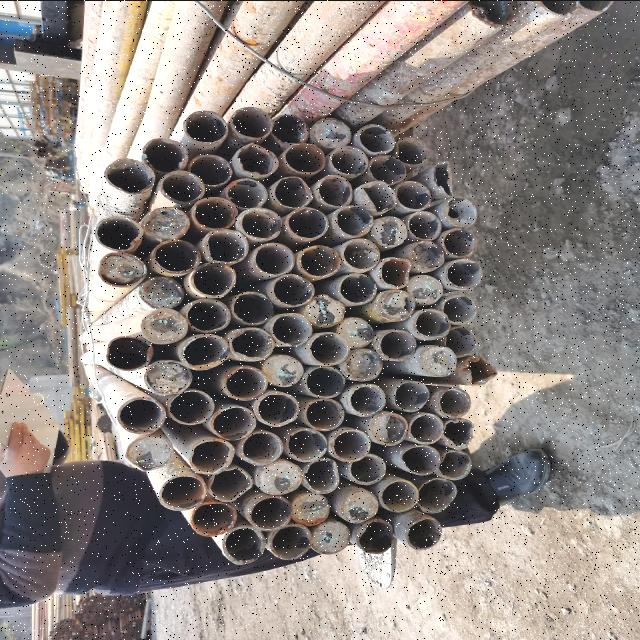pipe: (154, 472, 208, 510), (116, 394, 166, 434), (102, 156, 154, 194), (96, 252, 148, 288), (221, 524, 265, 566), (124, 433, 172, 471), (141, 358, 191, 394), (208, 402, 254, 440), (94, 214, 142, 250), (104, 335, 152, 371), (140, 206, 188, 242), (140, 137, 188, 173), (182, 108, 228, 144), (202, 225, 248, 261), (181, 332, 227, 368), (221, 365, 267, 401), (254, 461, 304, 494), (183, 298, 231, 332), (245, 495, 291, 530), (167, 390, 214, 424), (416, 476, 458, 514), (142, 308, 186, 344), (188, 438, 232, 474), (192, 500, 236, 536), (208, 464, 252, 500), (239, 430, 283, 466), (158, 169, 204, 203), (192, 194, 238, 228), (191, 262, 237, 296), (297, 243, 343, 277), (254, 391, 300, 425), (334, 486, 378, 521), (269, 524, 311, 560), (234, 142, 278, 176), (284, 426, 328, 460), (152, 242, 198, 274), (231, 326, 273, 360), (230, 105, 272, 139), (286, 204, 328, 238), (270, 311, 312, 345), (238, 206, 282, 238), (272, 272, 312, 307), (330, 426, 370, 461), (232, 291, 274, 324), (261, 353, 303, 386), (140, 276, 183, 308), (304, 456, 340, 494), (309, 331, 349, 365), (290, 492, 330, 526), (354, 519, 394, 553), (346, 382, 386, 416), (190, 152, 232, 184), (252, 241, 294, 273), (284, 142, 326, 174), (309, 520, 351, 552), (377, 479, 419, 511), (398, 444, 440, 476), (368, 412, 406, 446), (342, 237, 380, 271), (328, 143, 366, 177), (358, 178, 396, 212), (303, 294, 343, 326), (346, 452, 386, 484), (376, 328, 416, 360), (274, 174, 312, 207), (225, 178, 269, 206), (378, 287, 414, 321), (270, 112, 308, 144), (304, 397, 342, 429), (343, 348, 381, 380), (334, 204, 372, 236), (312, 115, 350, 147), (370, 215, 408, 247), (356, 122, 396, 152), (464, 352, 498, 386), (340, 272, 376, 304), (409, 412, 445, 444), (436, 386, 472, 418), (421, 344, 457, 376), (442, 326, 478, 358), (306, 366, 344, 396), (368, 151, 406, 181), (394, 178, 432, 208), (337, 316, 372, 348), (378, 256, 413, 288), (407, 516, 442, 548), (392, 381, 429, 411), (317, 174, 351, 206), (437, 448, 471, 479), (408, 274, 443, 304), (441, 197, 476, 227), (414, 308, 448, 338), (441, 418, 473, 448), (442, 294, 476, 322), (446, 259, 480, 287), (408, 210, 442, 238), (393, 137, 428, 163), (431, 160, 456, 196), (412, 241, 444, 269), (442, 228, 474, 255)
